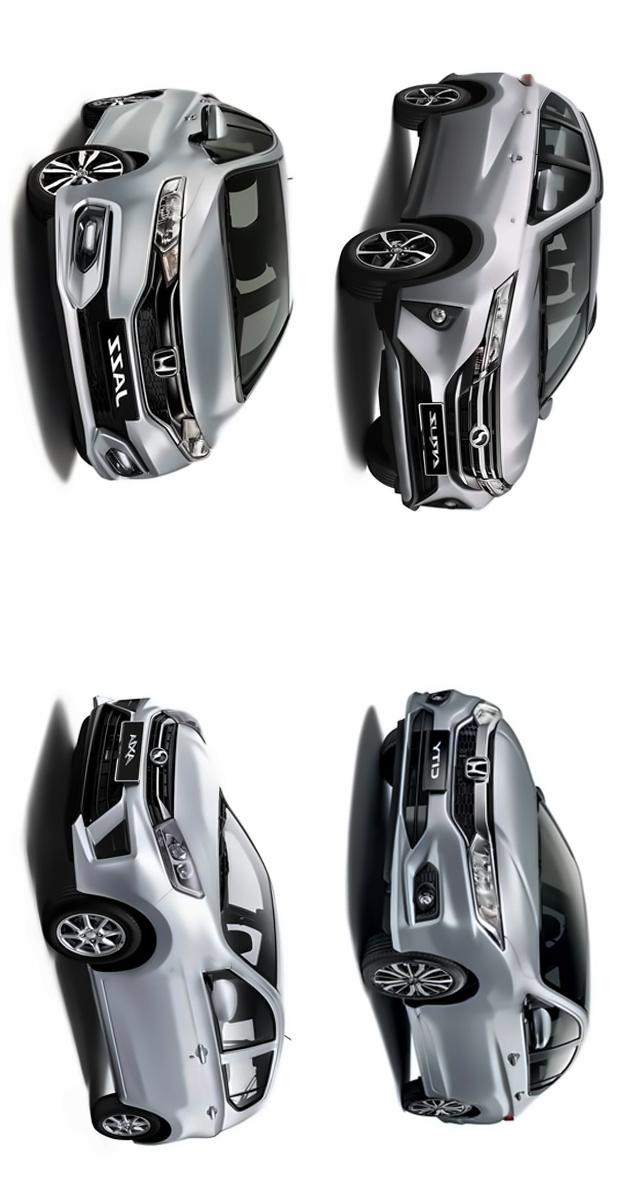Car hood: (178, 167, 246, 449), (490, 713, 549, 980), (172, 718, 233, 910), (497, 244, 542, 489)
Driver-s door - -F-R-: (416, 168, 605, 225), (89, 123, 283, 172)
Fender - -F-L-: (90, 892, 237, 974), (410, 939, 545, 1010)
Fender - -F-R-: (395, 206, 544, 277), (98, 146, 231, 197)
Fender - -R-L-: (457, 1095, 547, 1117), (150, 1118, 237, 1139)
Fender - -R-R-: (459, 82, 549, 120)
Front bumper: (50, 174, 157, 480), (384, 680, 469, 976), (380, 280, 482, 510), (60, 680, 157, 915)
Headlight - -L-: (460, 824, 518, 956), (146, 806, 211, 904), (164, 406, 217, 471), (478, 464, 515, 500)
Headlight - -R-: (152, 172, 198, 293), (478, 262, 520, 379), (460, 686, 513, 737), (158, 702, 213, 744)
Passenger-s door - -F-L-: (96, 963, 285, 1048), (410, 996, 590, 1059)
Passenger-s door - -R-L-: (112, 1043, 282, 1123), (422, 1057, 588, 1110)
Passenger-s door - -R-R-: (428, 107, 599, 167), (109, 95, 281, 130)
Rear bumper: (125, 1127, 186, 1155), (422, 1108, 488, 1133), (427, 66, 482, 92)
Rear light - -L-: (494, 1107, 523, 1128)
Rear light - -R-: (515, 70, 548, 94)
Side bumper - -L-: (81, 958, 132, 1111), (400, 998, 441, 1100)
Side bumper - -R-: (395, 101, 444, 226), (82, 98, 113, 152)
Side mirror - -L-: (198, 963, 246, 1026), (517, 1001, 557, 1054), (535, 392, 562, 423)
Side mirror - -R-: (526, 163, 565, 222), (185, 101, 235, 146)
